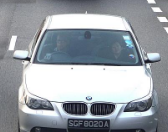car: (11, 9, 160, 132)
